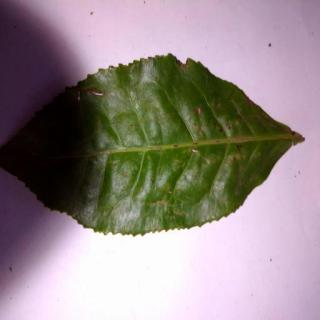Bird Eye Spot: (3, 54, 303, 238)
